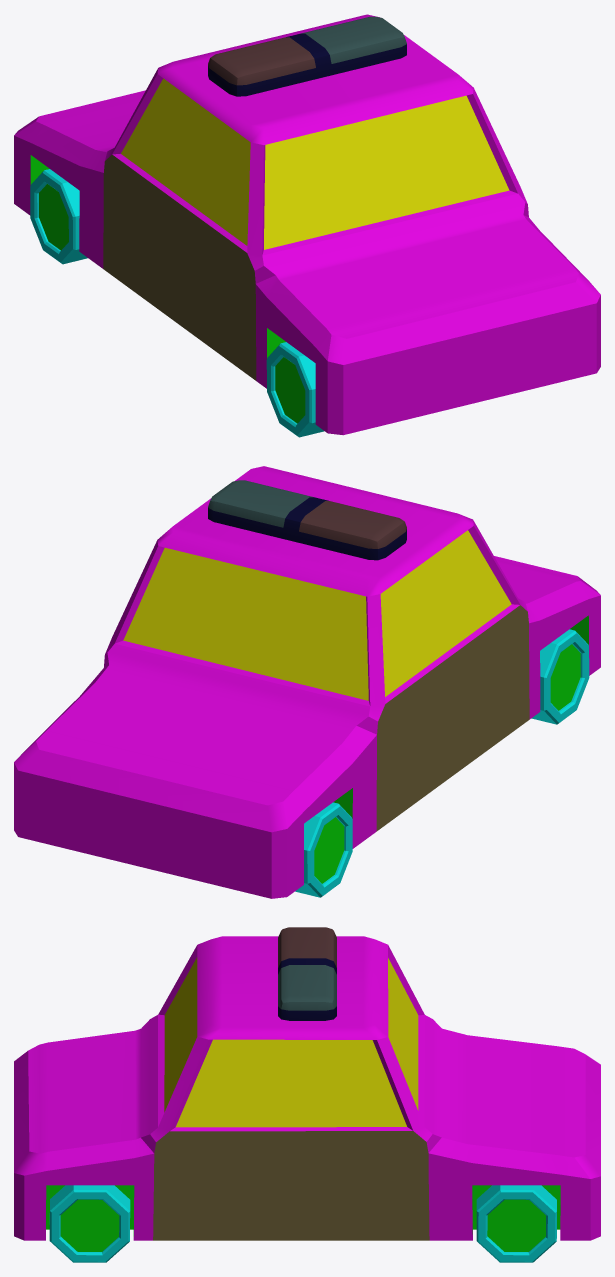
Rendered from PoliceBarricade.fbx.
3 views of the same model, one above another, from view 1: azimuth 30°, elevation 25°; view 2: azimuth 150°, elevation 25°; view 3: azimuth 270°, elevation 25° (orthographic). The views are drawn at different scales.
Visible parts, largest first — view 1: PoliceCar; view 2: PoliceCar; view 3: PoliceCar.
Boxes of the visible parts, left/top/right/bottom form: PoliceCar: left=14, top=14, right=600, bottom=437; PoliceCar: left=14, top=466, right=600, bottom=898; PoliceCar: left=14, top=927, right=600, bottom=1262.
Bounding box in the file's own units: 1.81 × 1.65 × 3.65.
